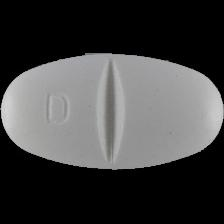63187-148: (0, 0, 224, 224)
